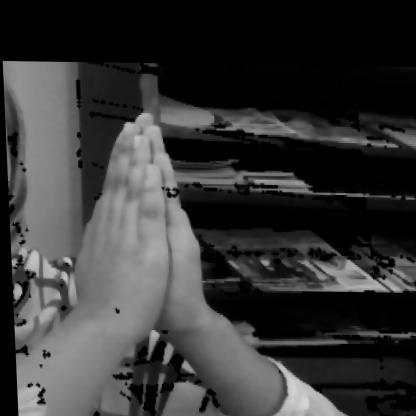namaste: (23, 85, 236, 395)
